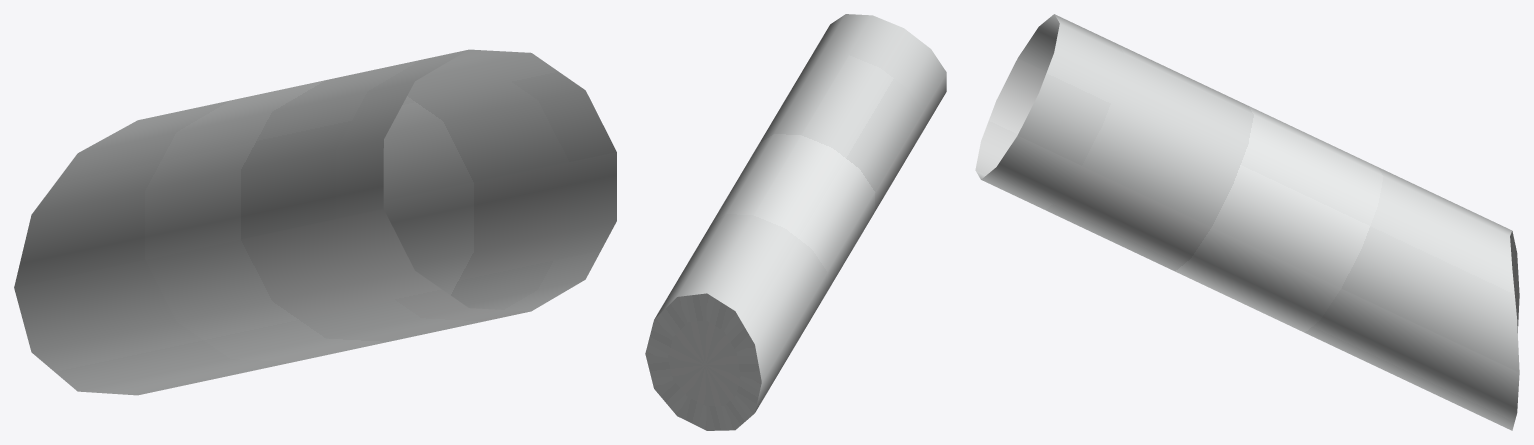
The model's file is luminairearm_truss15ftdouble_c12.obj.
The picture shows the model from 3 angles, left to right: view 1: azimuth 30°, elevation 25°; view 2: azimuth 150°, elevation 25°; view 3: azimuth 270°, elevation 25°; orthographic projection. The views are drawn at different scales.
Visible parts, largest first — view 1: luminairearm_truss15ftdouble_c12; view 2: luminairearm_truss15ftdouble_c12; view 3: luminairearm_truss15ftdouble_c12.
Boxes of the visible parts, bbox=[...] form: luminairearm_truss15ftdouble_c12: bbox=[14, 49, 616, 395]; luminairearm_truss15ftdouble_c12: bbox=[645, 14, 946, 430]; luminairearm_truss15ftdouble_c12: bbox=[975, 14, 1519, 430].
Size of the model in its own units: 0.1562 by 0.3769 by 0.4653.
